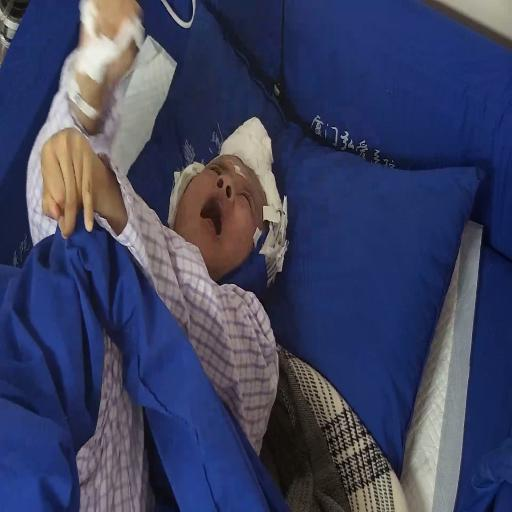Seizure: (183, 137, 280, 287)
